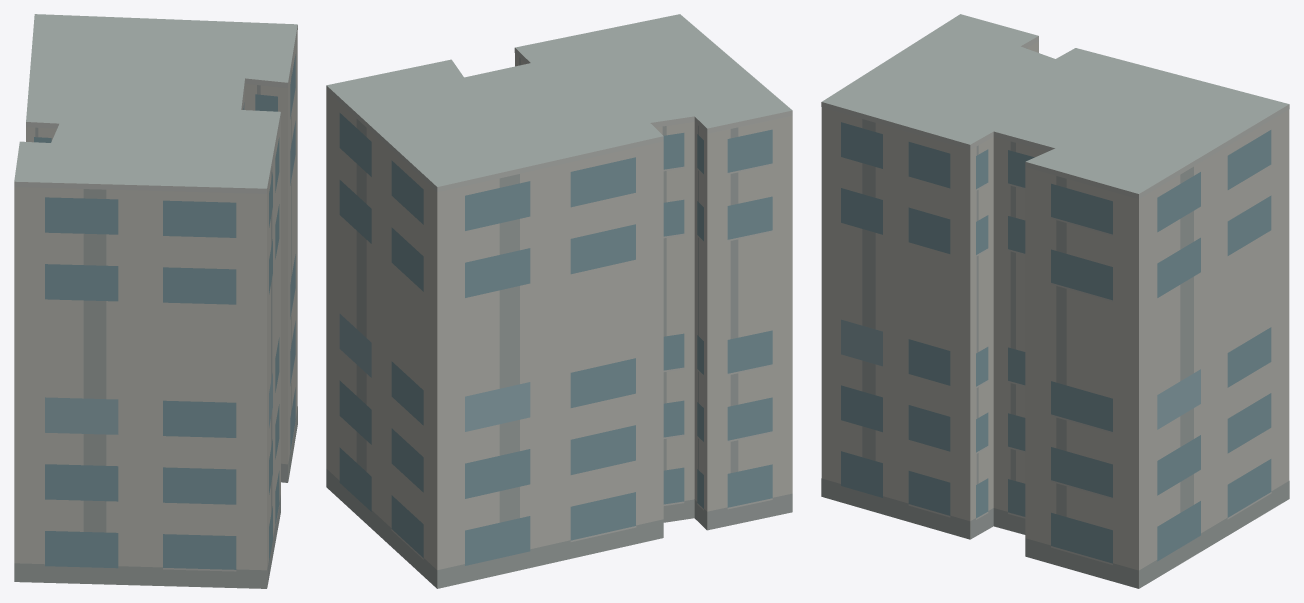
The model's file is survey-upis-32919869.glb.
3 views of the same model, side by side, from view 1: azimuth 30°, elevation 25°; view 2: azimuth 150°, elevation 25°; view 3: azimuth 270°, elevation 25° (orthographic).
Parts seen in each view (by area): view 1: survey-upis-32919869.tmp; view 2: survey-upis-32919869.tmp; view 3: survey-upis-32919869.tmp.
Part boxes in pixels (x1,y1,x2,y2): survey-upis-32919869.tmp: (14, 14, 297, 588); survey-upis-32919869.tmp: (326, 14, 792, 588); survey-upis-32919869.tmp: (821, 14, 1289, 588).
Size of the model in its own units: 17.91 by 18.3 by 19.66.
